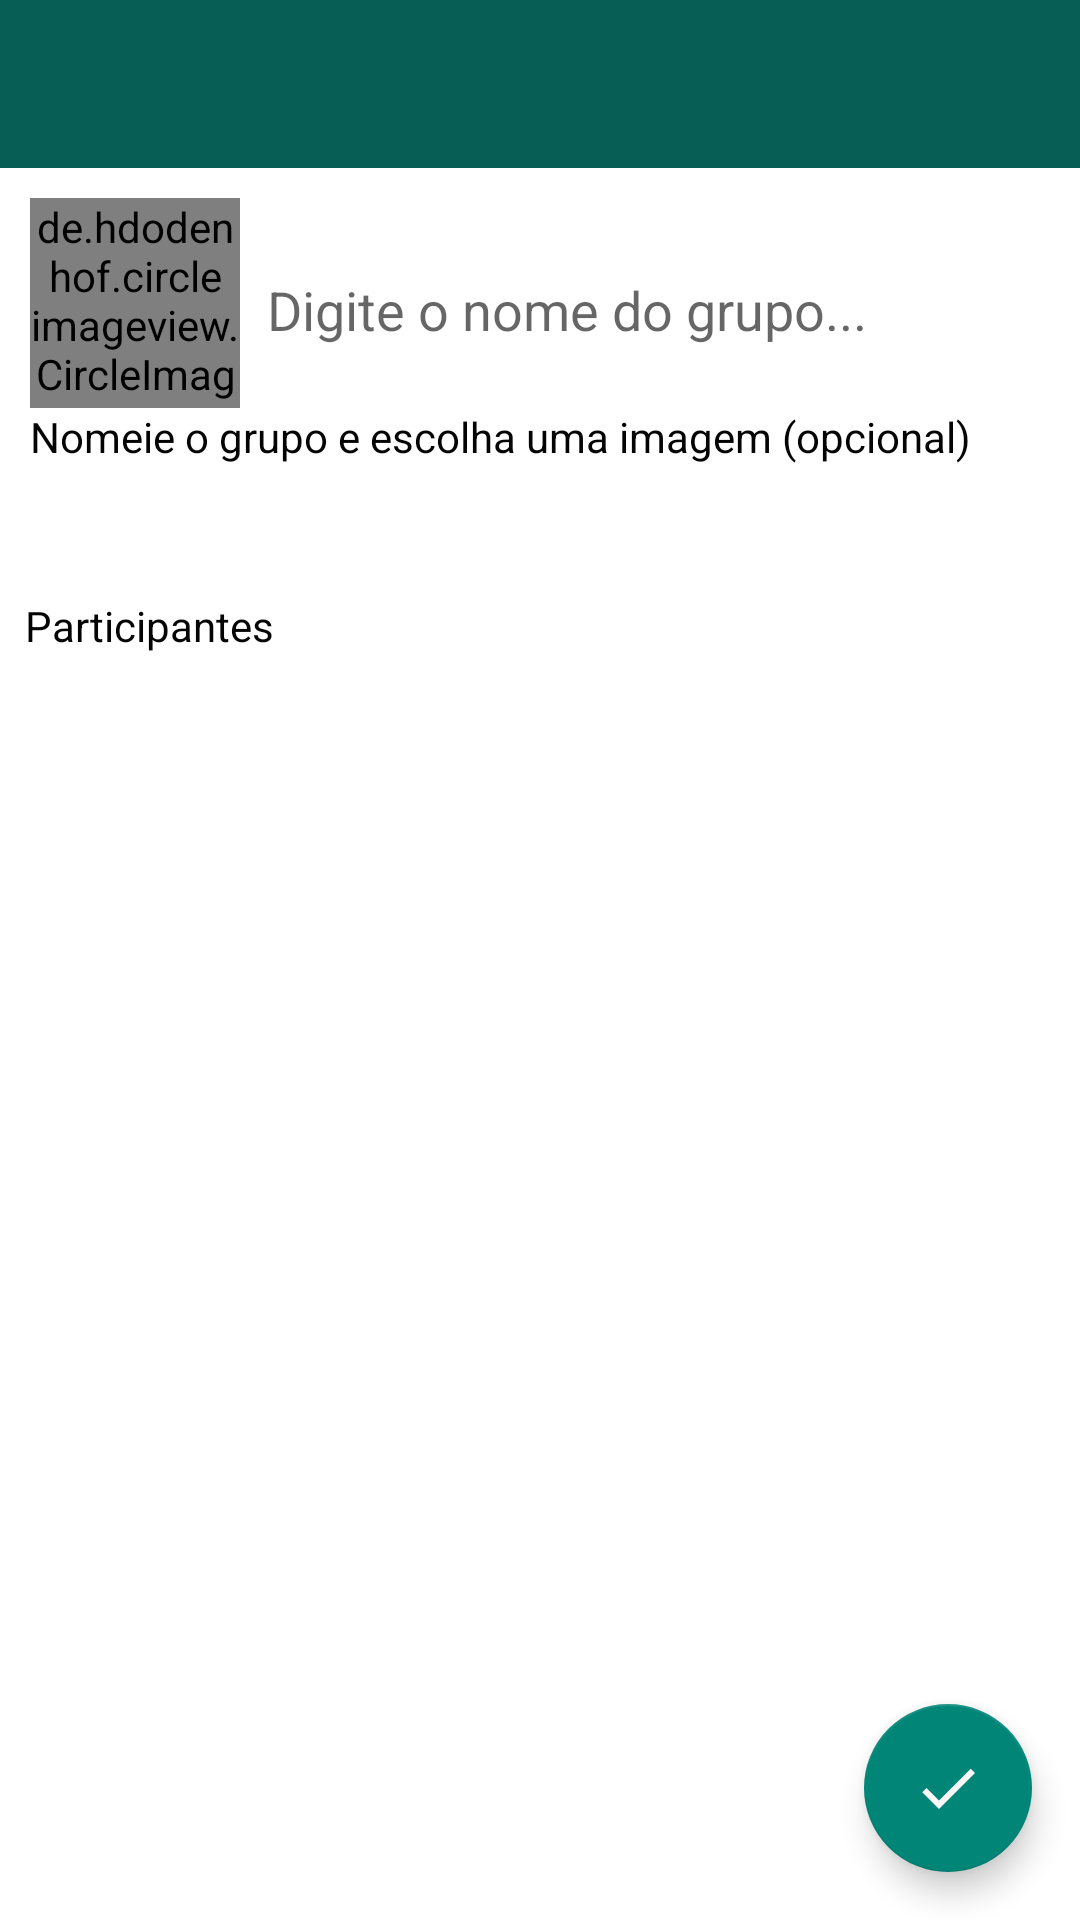

Named icons in this screenshot (1080 × 1920) and their centers, point (x, y):
check branco: point (948, 1788)
